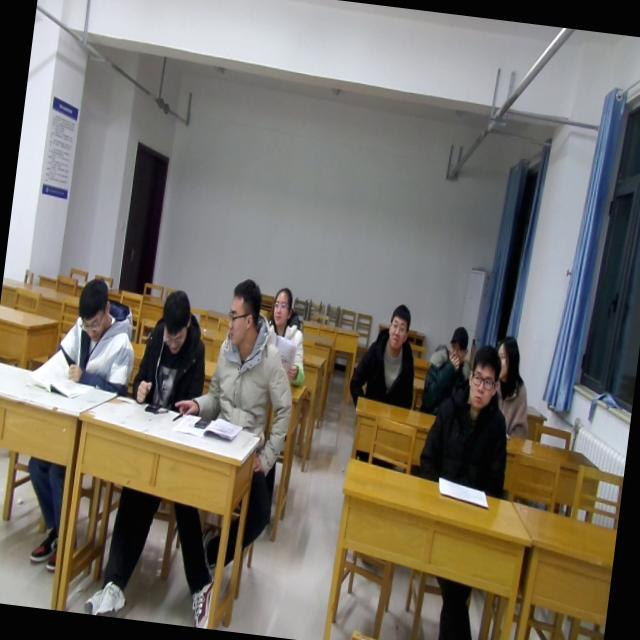down: (154, 280, 197, 358), (71, 272, 116, 344)
lookup: (462, 338, 504, 414), (381, 298, 416, 352), (444, 319, 473, 366), (268, 279, 296, 327)
sit: (192, 270, 308, 432), (414, 338, 520, 498), (49, 267, 144, 399), (128, 280, 216, 414), (345, 298, 425, 412), (484, 332, 540, 440), (418, 320, 478, 418), (260, 284, 316, 388)
